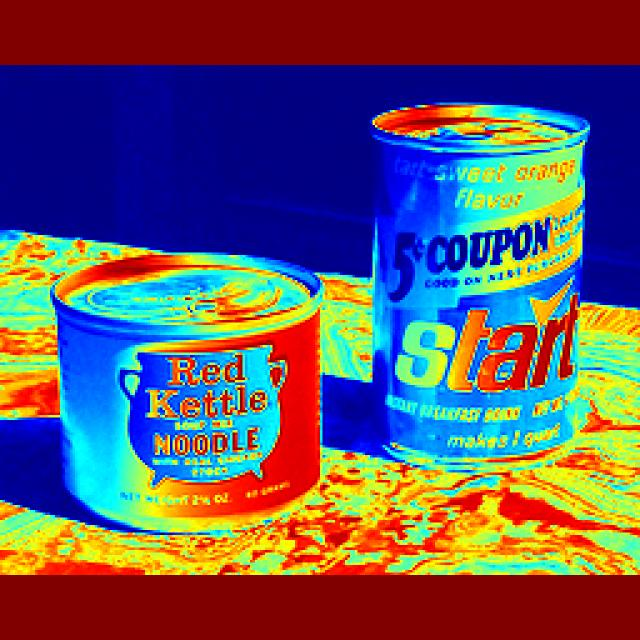Aluminium Food Cans: (358, 110, 594, 473), (57, 242, 324, 520)
